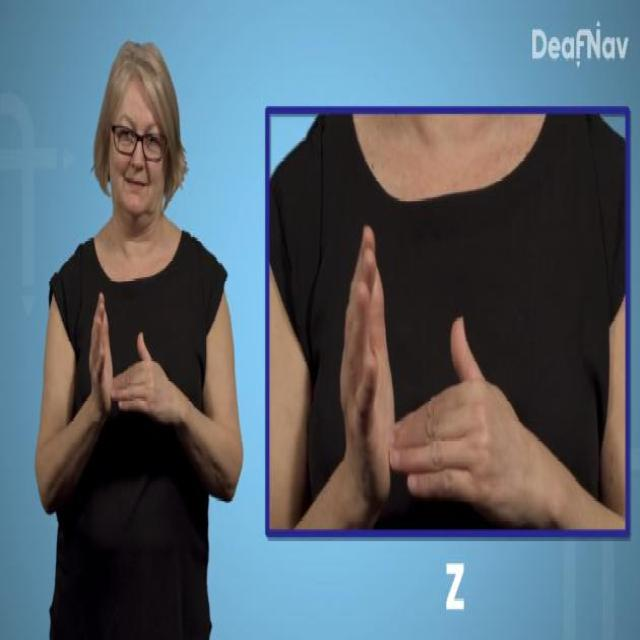Z: (338, 223, 505, 524), (88, 291, 161, 427)
